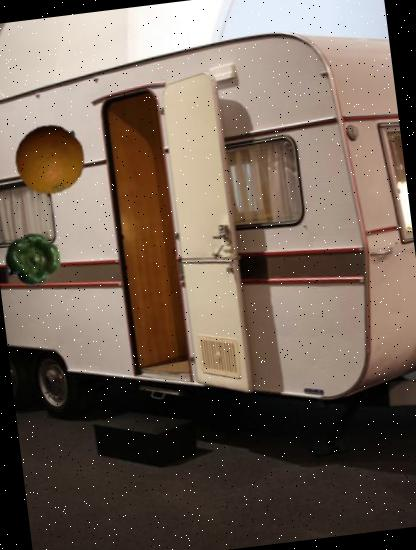Orange: (11, 119, 90, 198)
Pepper: (1, 228, 63, 290)
